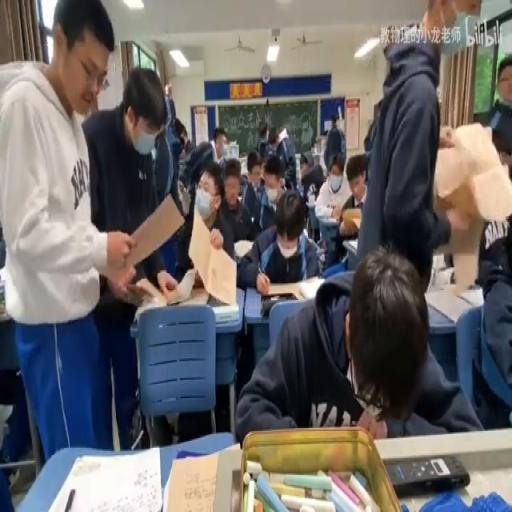calculator: (43, 448, 162, 512), (163, 448, 227, 512), (131, 268, 200, 308), (426, 283, 482, 323), (262, 278, 322, 304), (242, 286, 264, 321), (210, 300, 240, 322), (429, 264, 454, 288), (314, 204, 340, 224), (176, 179, 190, 215), (232, 236, 254, 258), (342, 236, 357, 256), (0, 268, 6, 314)
paper: (233, 240, 472, 442), (83, 63, 179, 455), (357, 0, 469, 279), (471, 192, 512, 424), (170, 153, 240, 286), (237, 188, 317, 290), (0, 225, 32, 475), (336, 150, 368, 262), (486, 61, 512, 174), (423, 0, 483, 48), (153, 122, 177, 202), (298, 152, 324, 223), (269, 124, 295, 189), (244, 151, 266, 223), (322, 115, 345, 171), (363, 98, 379, 151), (190, 151, 212, 185), (209, 125, 227, 164), (254, 120, 270, 160), (174, 118, 190, 156), (163, 85, 176, 125), (222, 156, 240, 182), (438, 125, 454, 148), (267, 129, 278, 151), (258, 168, 267, 190), (299, 155, 308, 172), (332, 116, 338, 130), (240, 170, 246, 184), (322, 127, 329, 135)
person: (386, 454, 470, 496)
